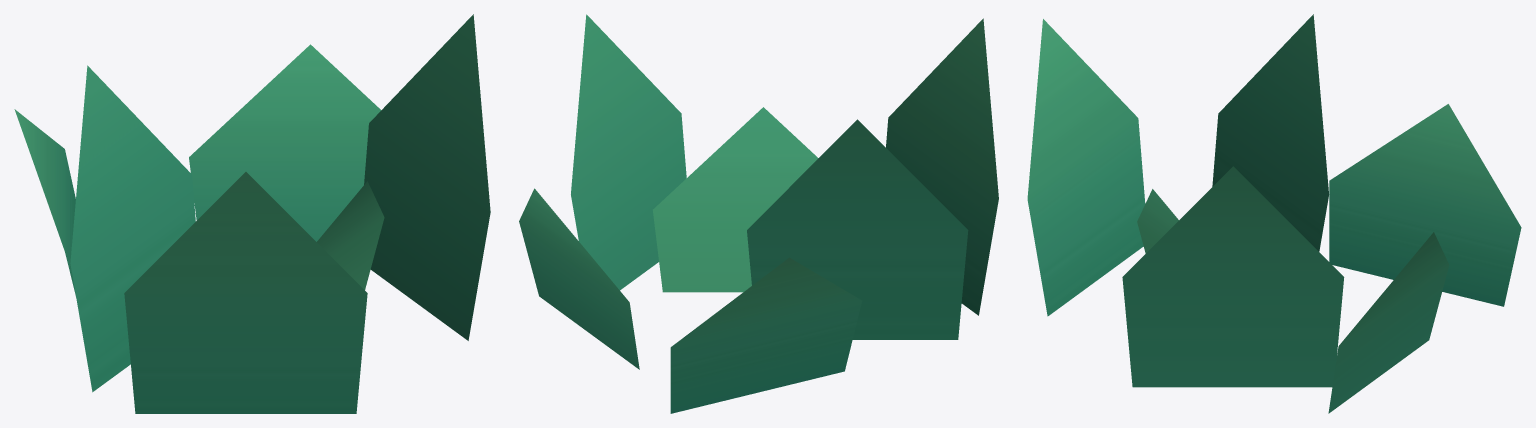
The model's file is kenney-survival-grass.glb.
3 views of the same model, side by side, from view 1: azimuth 30°, elevation 25°; view 2: azimuth 150°, elevation 25°; view 3: azimuth 270°, elevation 25° (orthographic). The views are drawn at different scales.
Visible parts, largest first — view 1: grass; view 2: grass; view 3: grass.
Part boxes in pixels (x1,y1,x2,y2): grass: [14, 14, 490, 413]; grass: [519, 14, 998, 413]; grass: [1027, 14, 1521, 413].
Bounding box in the file's own units: 0.2345 × 0.1425 × 0.2573.
1 material, 1 textured.
